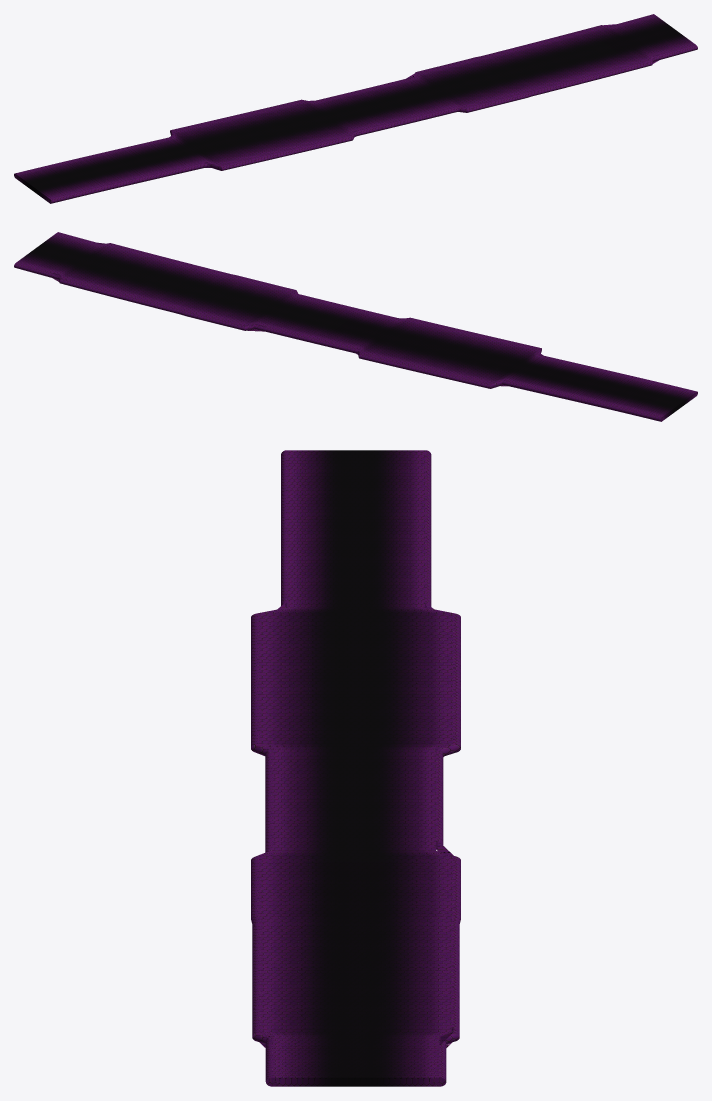
The model's file is level-02-track-12.glb.
The picture shows the model from 3 angles, top to bottom: view 1: azimuth 30°, elevation 25°; view 2: azimuth 150°, elevation 25°; view 3: azimuth 270°, elevation 25°; orthographic projection. The views are drawn at different scales.
Visible parts, largest first — view 1: track-12; view 2: track-12; view 3: track-12.
Part boxes in pixels (left/top/right/bottom): track-12: left=14, top=14, right=697, bottom=203; track-12: left=14, top=232, right=697, bottom=421; track-12: left=251, top=450, right=460, bottom=1086.
Bounding box in the file's own units: 58.98 × 0.7122 × 8.35.
Materials: 2 (2 with a texture image).
